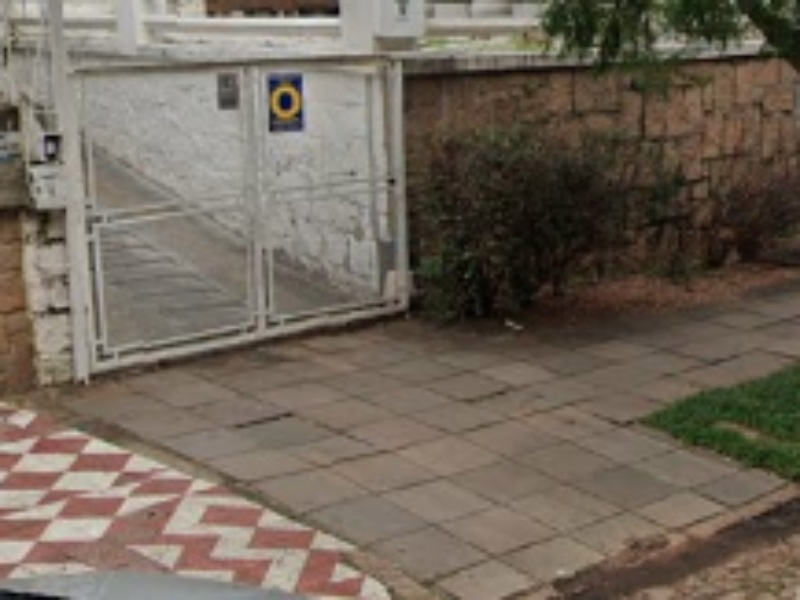g66: (431, 428, 793, 600)
